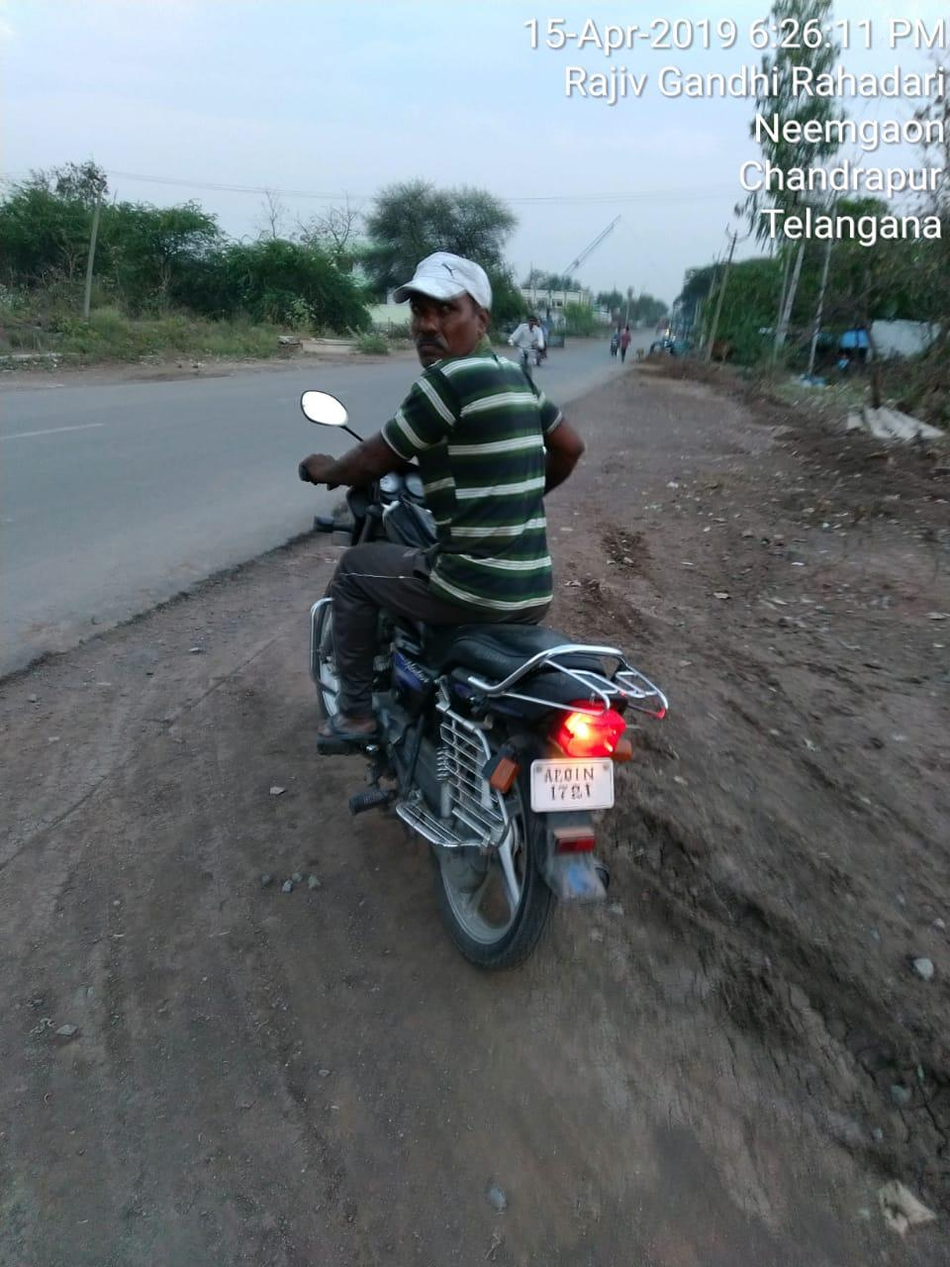plate: (513, 745, 634, 820)
